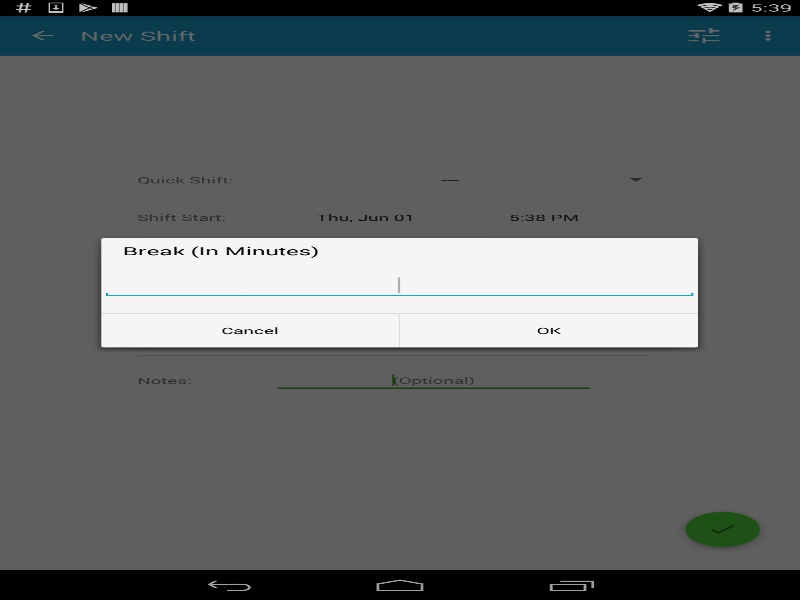Button: (400, 313, 698, 347), (101, 313, 398, 347)
Input: (101, 273, 698, 297)
